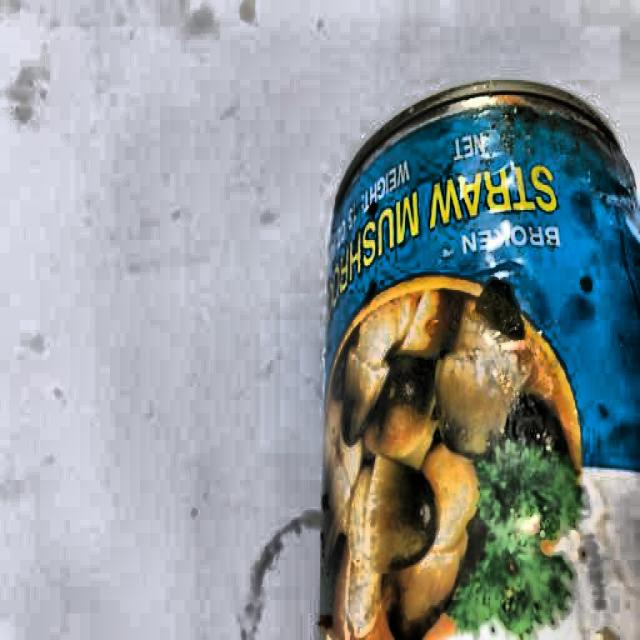metal: (323, 77, 640, 640)
